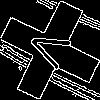V: (25, 25, 80, 76)
